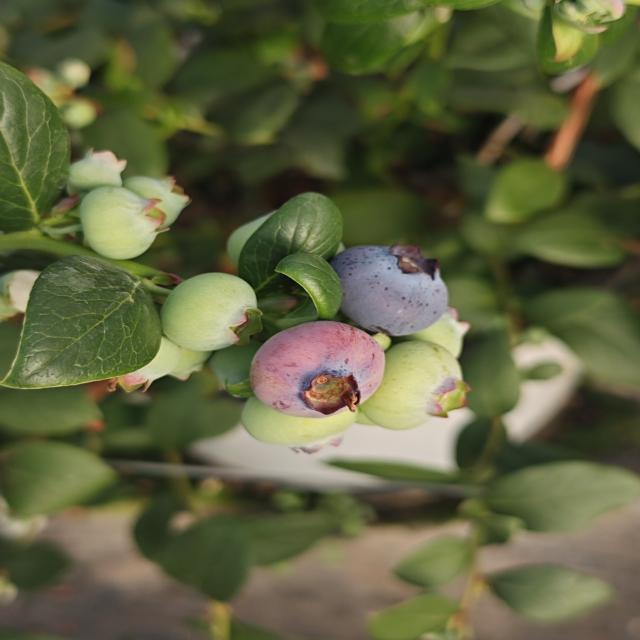ripe: (328, 242, 452, 338)
